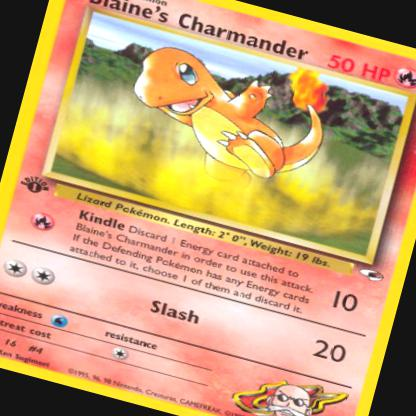Charmander: (112, 28, 343, 210)
